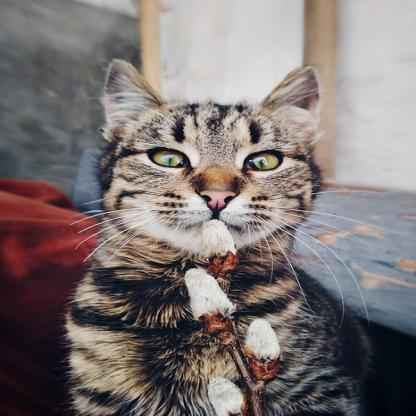cat: (67, 57, 371, 415)
